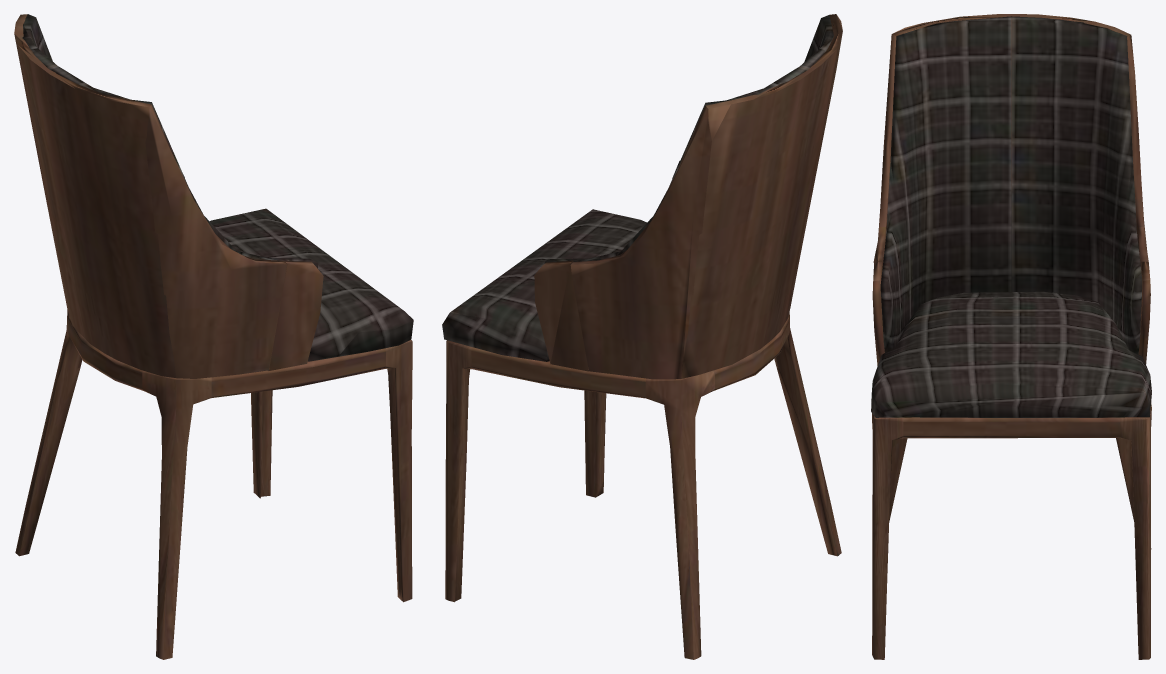
File: Chair0016.obj
3 renders of one model, left to right at view 1: azimuth 30°, elevation 25°; view 2: azimuth 150°, elevation 25°; view 3: azimuth 270°, elevation 25°, orthographic. The views are drawn at different scales.
Size of the model in its own units: 0.612 by 1.07 by 0.533.
Materials: 1 (1 with a texture image).
